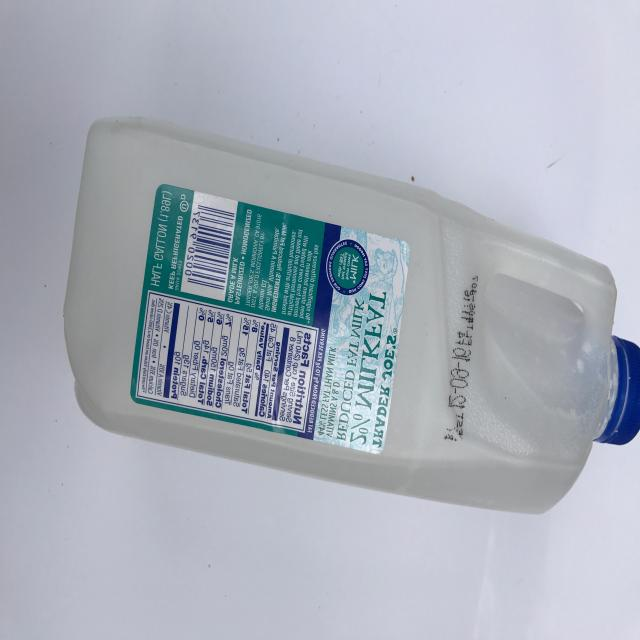plastic: (62, 114, 639, 514)
